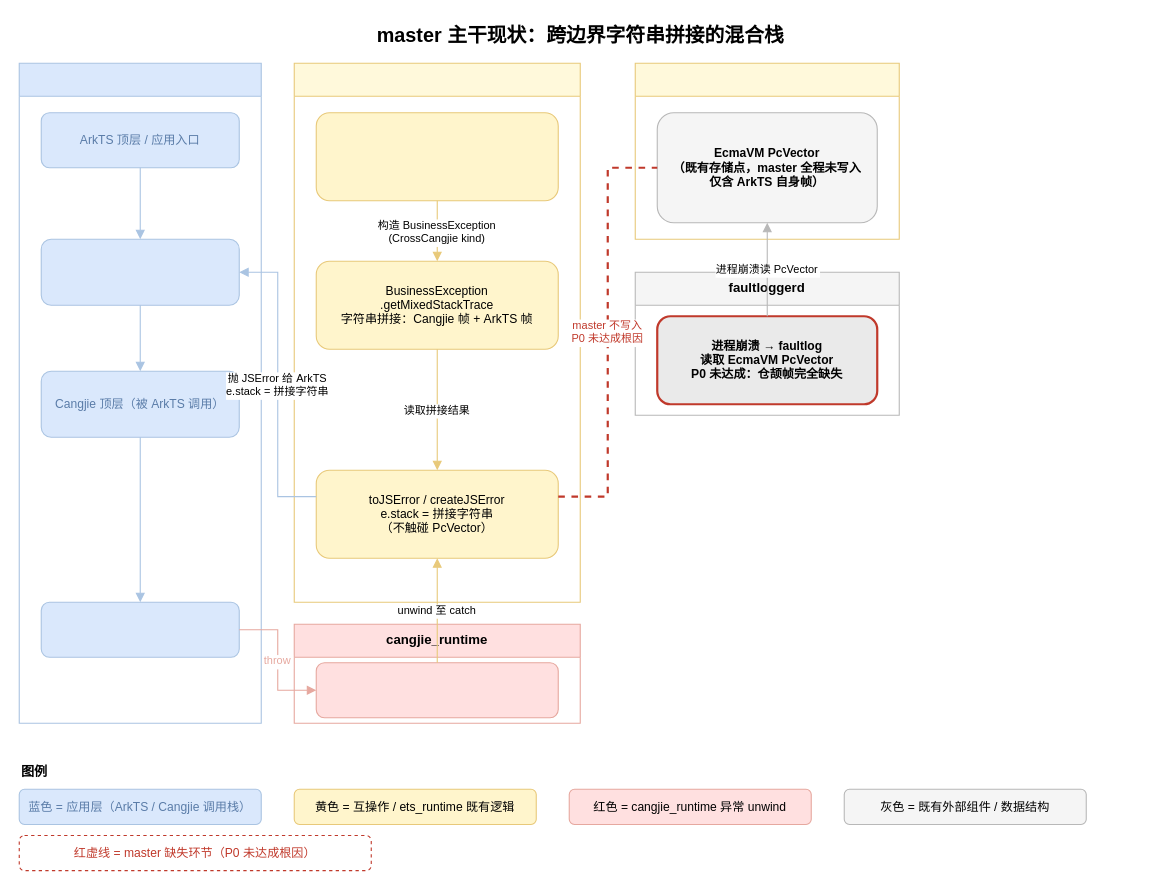
Image size: 1161x890. Some labels were removed from this diagram. The shapes that lost their labels are listed below. From the top down, each one's box as (x1, y1, x2, y2) in pixels, then its label:
(315, 112, 558, 201): 跨边界异常捕获 cjLambdaInvoker.catch 调用 getArkStack 取 ArkTS 栈字符串
(634, 62, 899, 239): ets_runtime
(40, 238, 239, 305): ArkTS 中间层 catch (e) → 读 e.stack（拼接字符串）
(293, 62, 580, 602): arkcompiler_cangjie_ark_interop
(18, 62, 261, 723): 应用代码（多层调用，自下而上）
(40, 601, 239, 657): Cangjie 内层（throw 点）
(315, 662, 558, 718): 异常 unwind 沿仓颉栈传播至 catch 后栈即销毁
